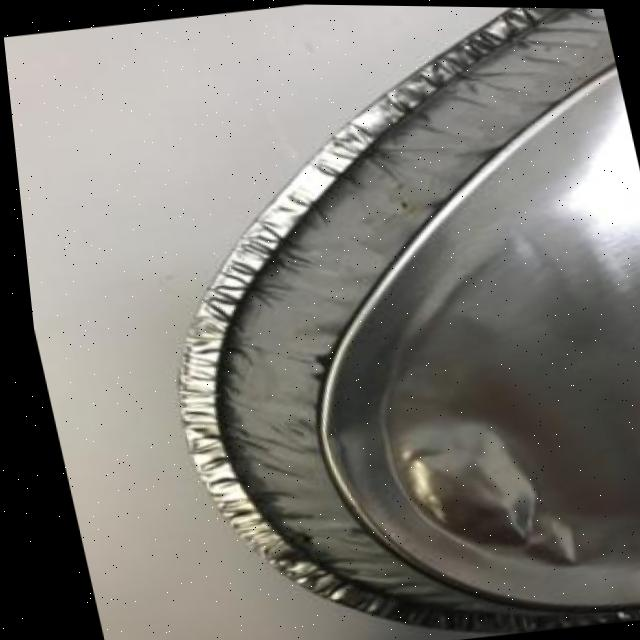metal: (79, 1, 640, 640)
